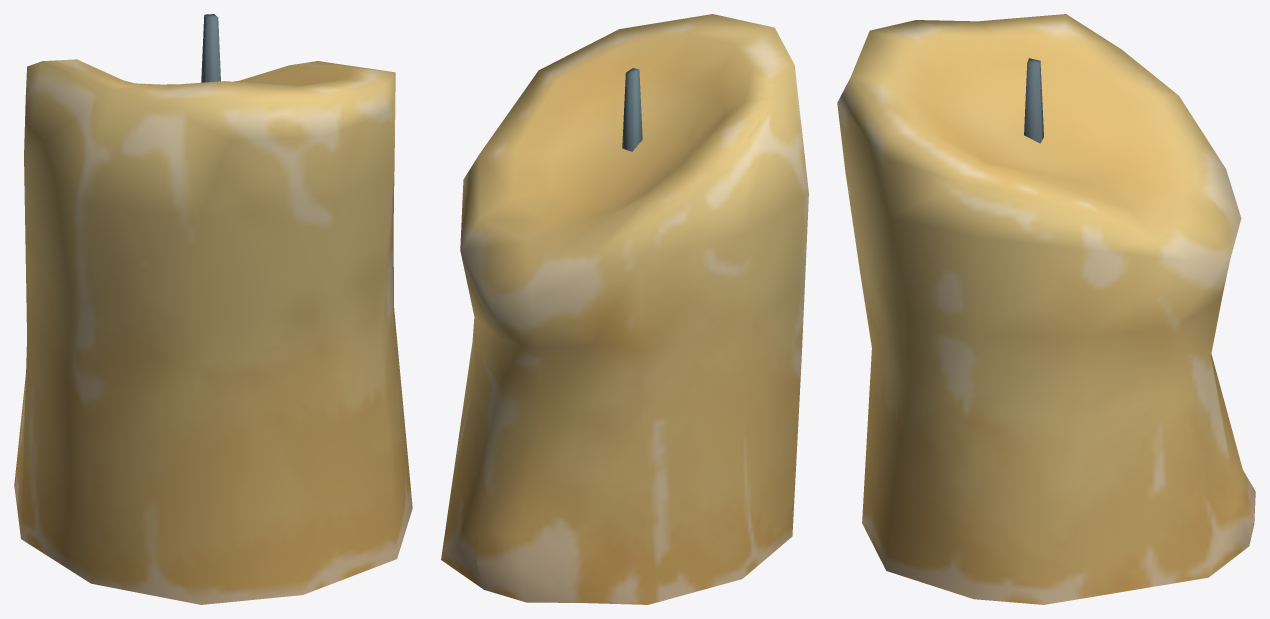
File: Candle_1.fbx
The picture shows the model from 3 angles, left to right: view 1: azimuth 30°, elevation 25°; view 2: azimuth 150°, elevation 25°; view 3: azimuth 270°, elevation 25°; orthographic projection. The views are drawn at different scales.
Visible parts, largest first — view 1: Candle_1; view 2: Candle_1; view 3: Candle_1.
Boxes of the visible parts, x1=… form: Candle_1: x1=14, y1=14, x2=412, y2=604; Candle_1: x1=441, y1=14, x2=808, y2=604; Candle_1: x1=837, y1=14, x2=1255, y2=604.
Bounding box in the file's own units: 9.39 × 13.2 × 10.79.
